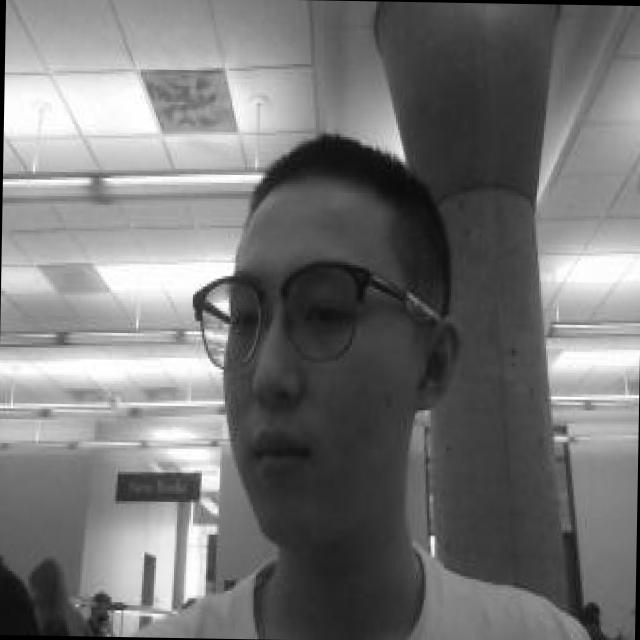Focused: (186, 256, 401, 500)
